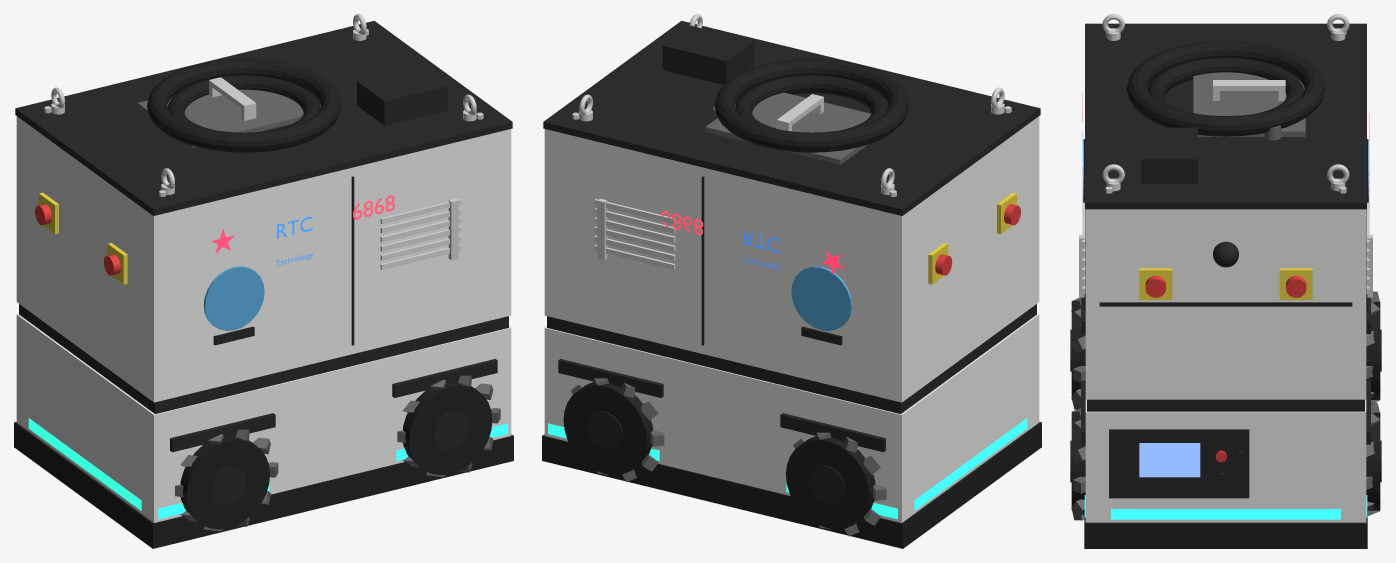
File: robot-6868.glb
3 views of the same model, side by side, from view 1: azimuth 30°, elevation 25°; view 2: azimuth 150°, elevation 25°; view 3: azimuth 270°, elevation 25° (orthographic). The views are drawn at different scales.
Parts seen in each view (by area): view 1: Upper, Base, TopPlate, Bumper, Cable1, GapTrim, Wheel_1_-1, Wheel_-1_-1, CableBox, MountPlate, Lidar_-1, Cable2 (+8 smaller); view 2: Upper, Base, TopPlate, Bumper, Cable1, GapTrim, Wheel_1_1, Wheel_-1_1, CableBox, MountPlate, Cable2, Lidar_1 (+8 smaller); view 3: Upper, TopPlate, Base, Cable1, Bumper, PanelInset, GapTrim, CableBox, MountPlate, Cable2, LED_F, Display2 (+11 smaller).
Boxes of the visible parts, x1,y1,x2,y2 form: Upper: (16, 116, 511, 402); Base: (16, 314, 511, 522); TopPlate: (15, 20, 512, 215); Bumper: (14, 422, 513, 548); Cable1: (147, 59, 341, 152); GapTrim: (19, 304, 508, 413); Wheel_1_-1: (403, 382, 492, 475); Wheel_-1_-1: (180, 436, 269, 529); CableBox: (357, 66, 448, 125); MountPlate: (137, 89, 320, 147); Lidar_-1: (203, 266, 264, 330); Cable2: (167, 75, 320, 130); Upper: (544, 116, 1039, 402); Base: (544, 314, 1039, 522); TopPlate: (543, 20, 1040, 215); Bumper: (542, 422, 1041, 548); Cable1: (714, 59, 908, 152); GapTrim: (547, 304, 1036, 413); Wheel_1_1: (563, 381, 652, 475); Wheel_-1_1: (786, 436, 875, 529); CableBox: (662, 25, 753, 84); MountPlate: (705, 92, 871, 164); Cable2: (735, 75, 888, 130); Lidar_1: (791, 266, 852, 330); Upper: (1085, 209, 1366, 399); TopPlate: (1085, 23, 1366, 209); Base: (1085, 399, 1366, 522); Cable1: (1127, 41, 1324, 136); Bumper: (1084, 508, 1367, 548); PanelInset: (1109, 429, 1249, 498); GapTrim: (1087, 399, 1364, 411); CableBox: (1141, 127, 1197, 184); MountPlate: (1193, 72, 1305, 136); Cable2: (1147, 57, 1304, 113); LED_F: (1111, 509, 1340, 519); Display2: (1139, 443, 1200, 477).
Size of the model in its own units: 0.9605 by 0.875 by 0.666.
